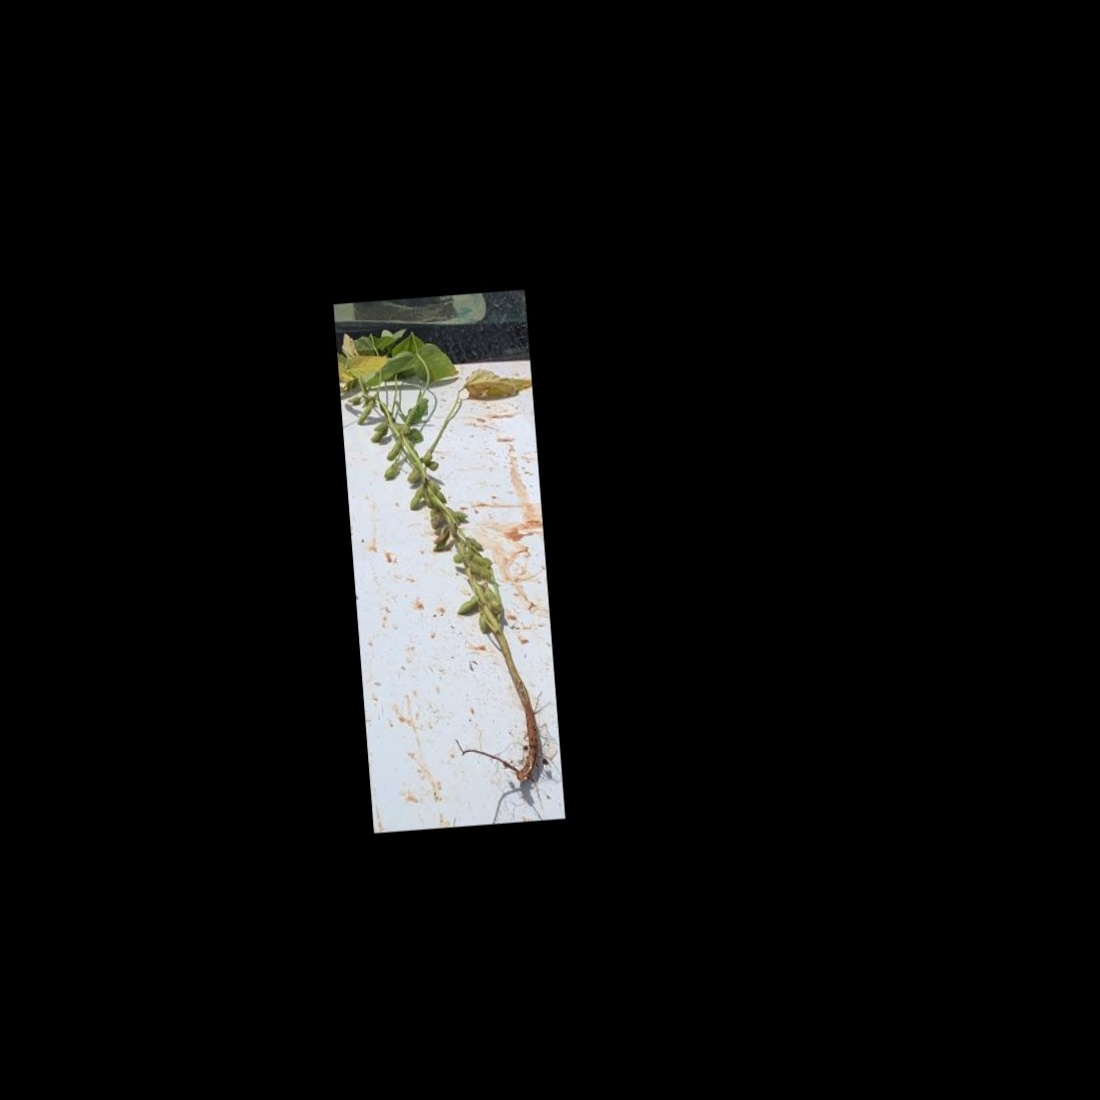pod: (453, 586, 485, 618), (383, 428, 407, 464), (379, 453, 404, 485), (405, 482, 427, 516), (354, 399, 378, 428), (482, 584, 503, 617)
soy: (338, 311, 554, 786)
